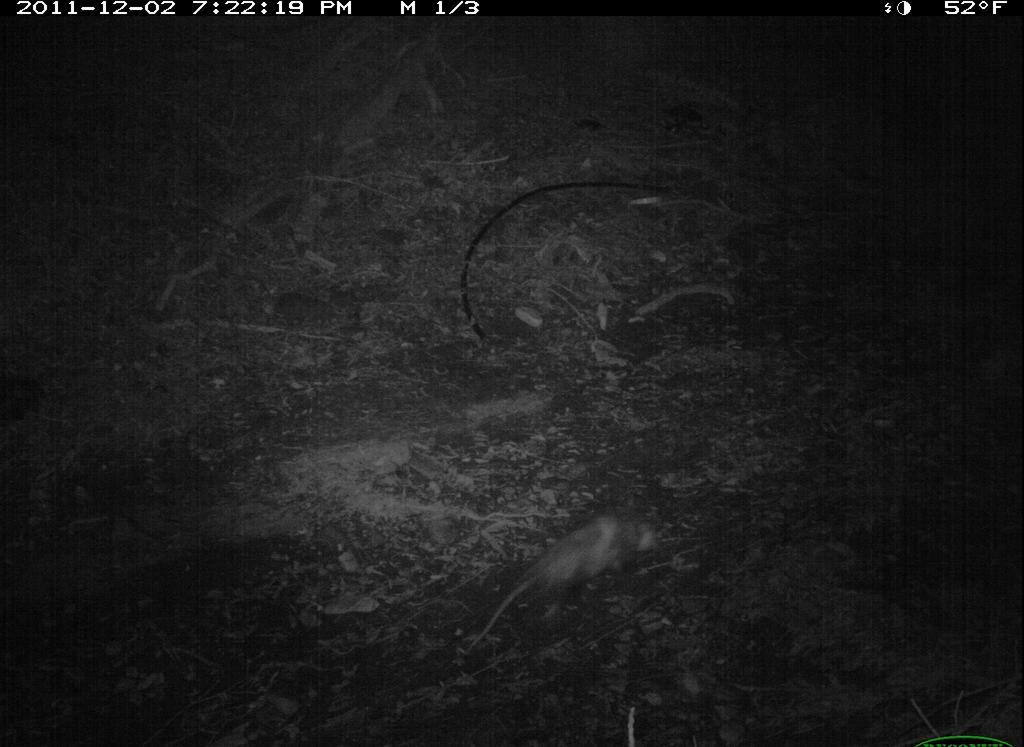opossum: (459, 510, 671, 658)
